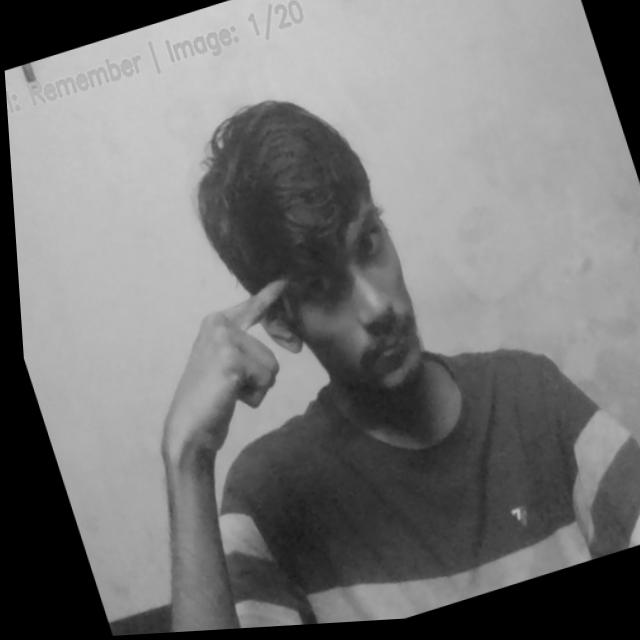Remember: (124, 274, 333, 473)
